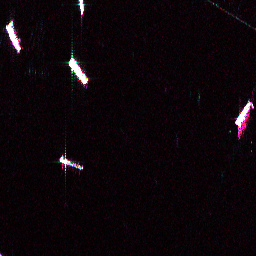ship: (64, 55, 91, 87), (2, 21, 25, 53), (231, 99, 254, 128), (57, 155, 85, 172), (77, 1, 86, 16)
